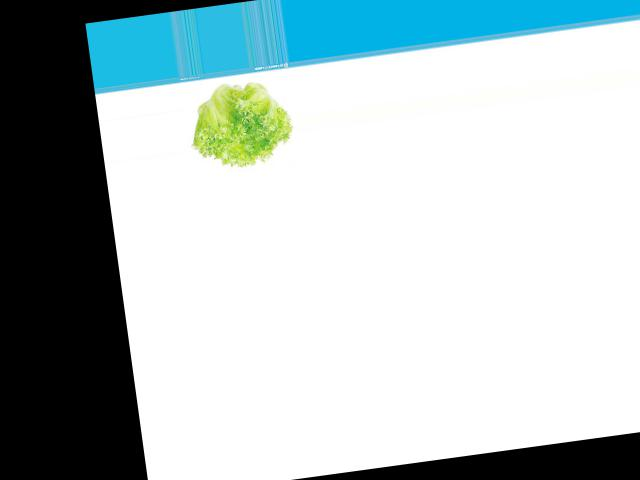lettuce: (186, 70, 297, 176)
